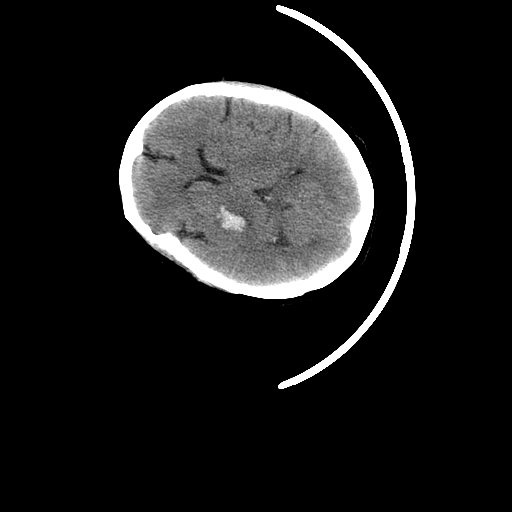a: (203, 195, 263, 244)
